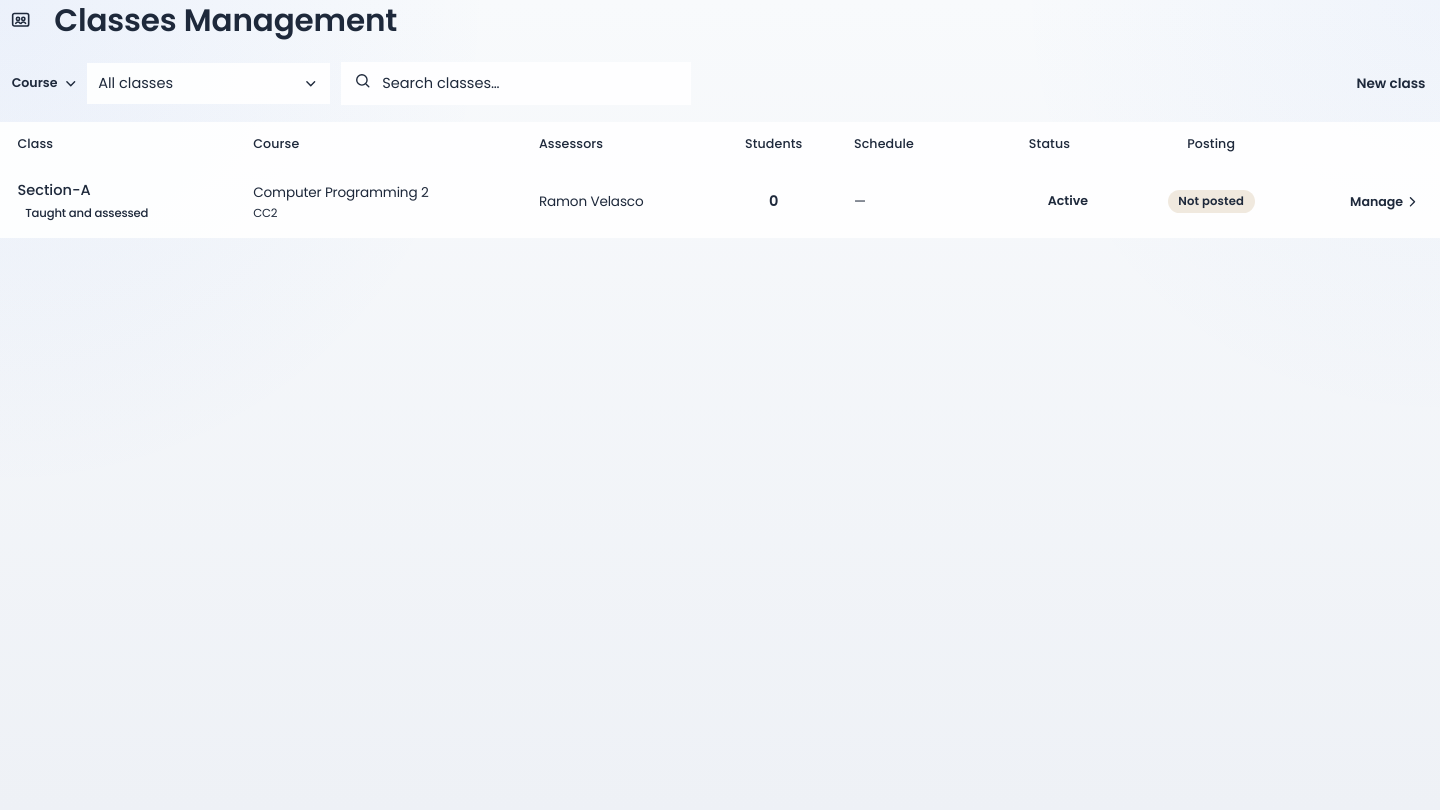
Posting › posts with the enrollment chosen in the window
Click the button "Section-A" at (54, 190), box [18,180,91,201]
(page scrolled)
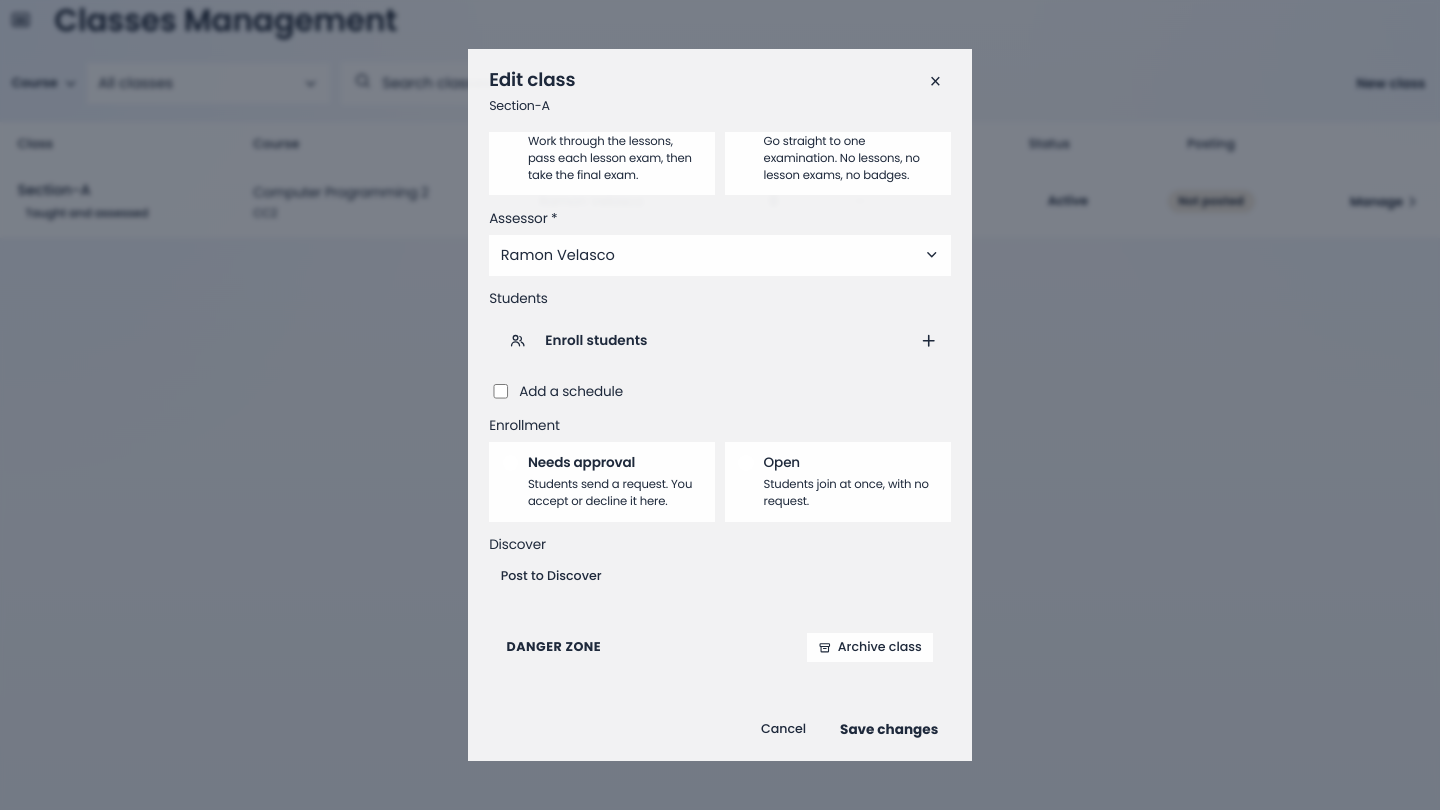
Click the radio button labelled "Open Students join at once, with no request." at (838, 482), box [725,442,951,522]
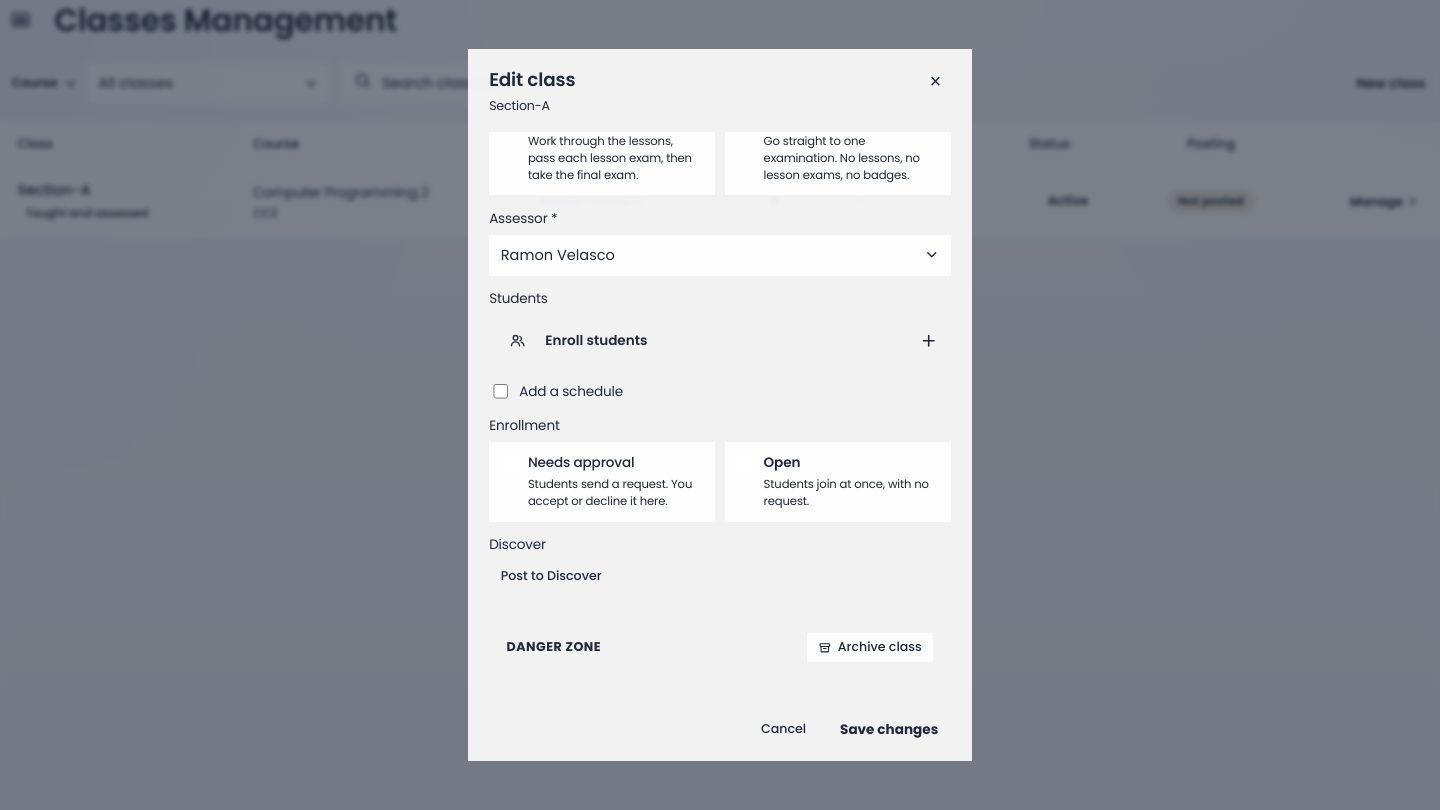
Click the button "Post to Discover" at (551, 576), box [489,561,613,592]
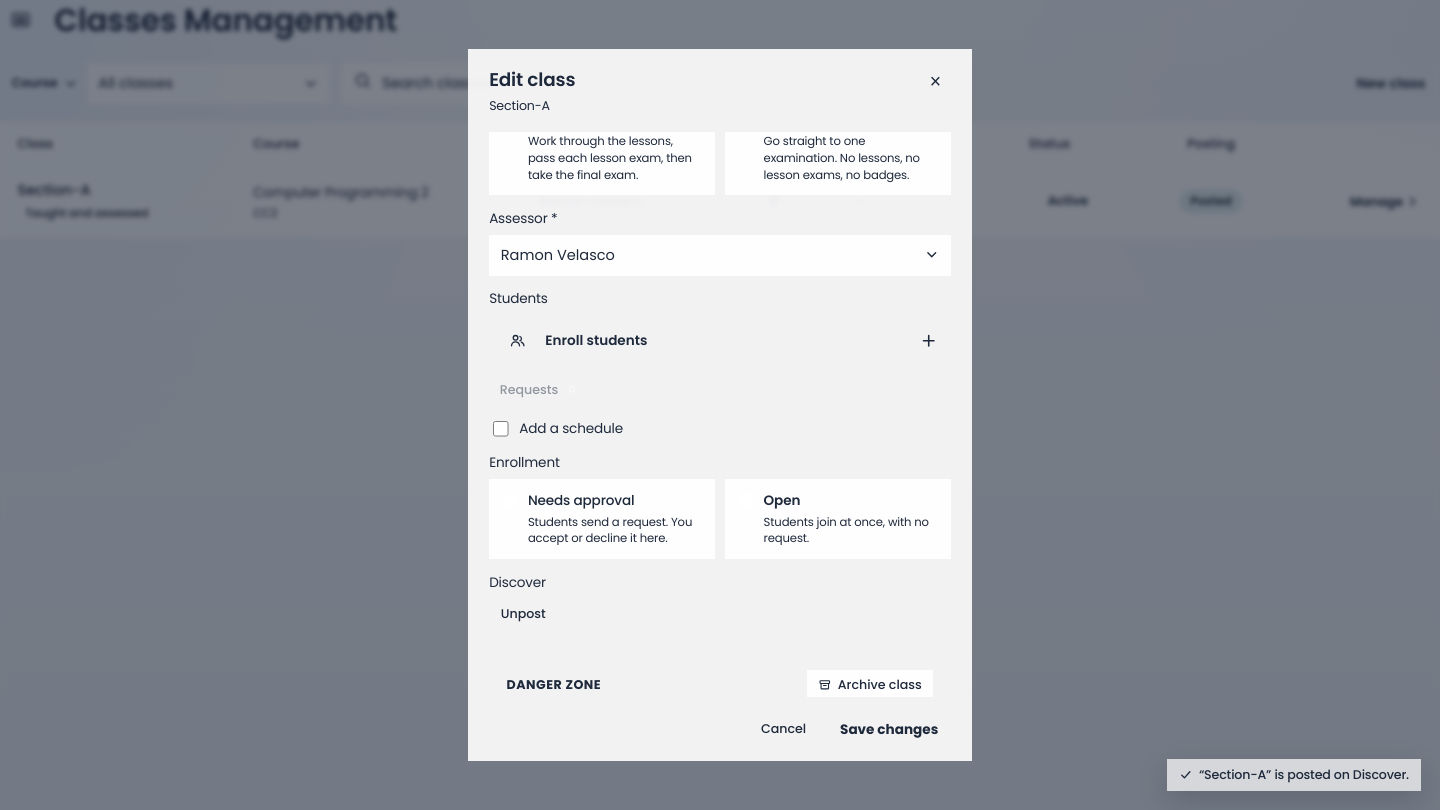
Expected: the text "Posted" is shown, [1180,190,1242,213]
Now the button "Unpost" is shown, box [489,598,557,629]
